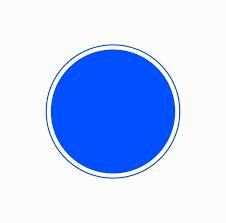blue_circle: (40, 38, 184, 186)
